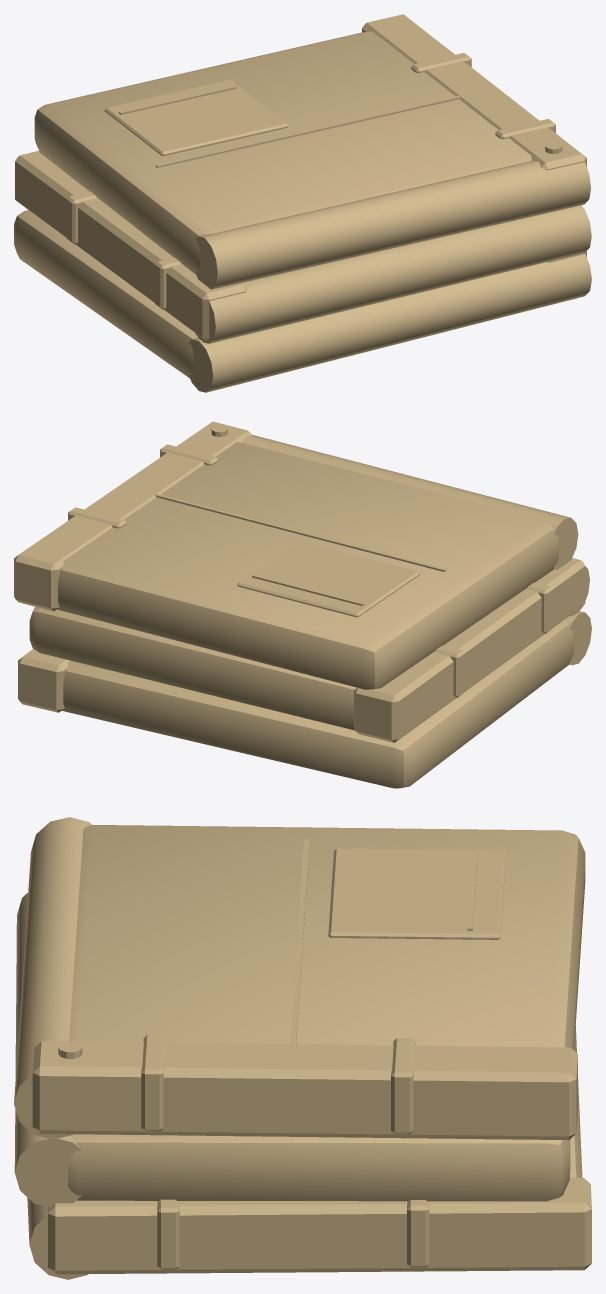
The model's file is Display_Chinos_Folded.fbx.
The picture shows the model from 3 angles, top to bottom: view 1: azimuth 30°, elevation 25°; view 2: azimuth 150°, elevation 25°; view 3: azimuth 270°, elevation 25°; orthographic projection. The views are drawn at different scales.
Visible parts, largest first — view 1: Display_Chinos_Folded; view 2: Display_Chinos_Folded; view 3: Display_Chinos_Folded.
Boxes of the visible parts, bbox=[...] form: Display_Chinos_Folded: bbox=[14, 14, 591, 392]; Display_Chinos_Folded: bbox=[14, 421, 591, 788]; Display_Chinos_Folded: bbox=[14, 817, 591, 1279].
Bounding box in the file's own units: 0.3517 × 0.1292 × 0.3123.
